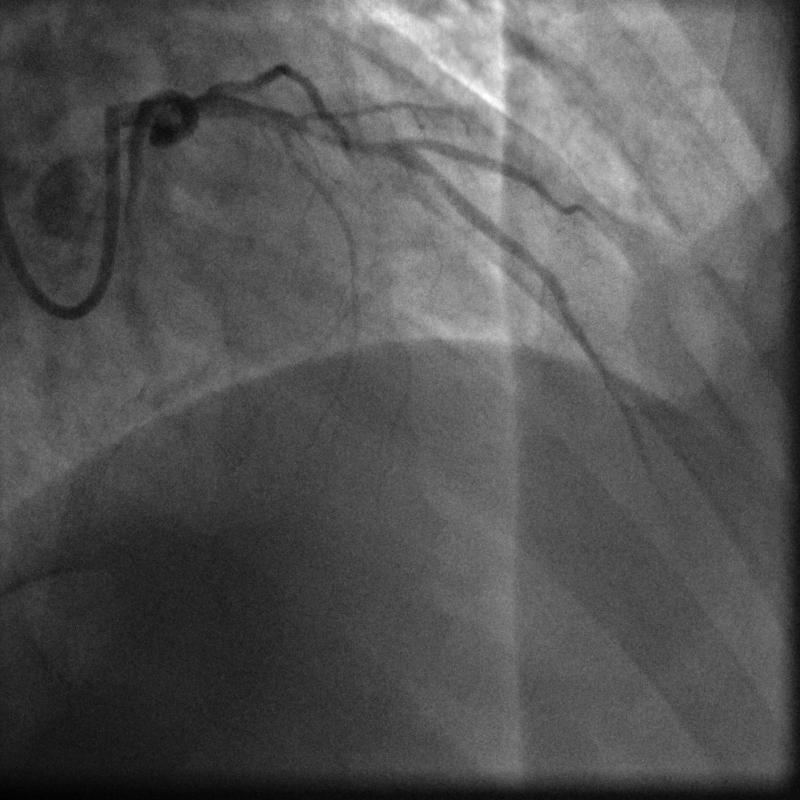Stenosis: (294, 116, 383, 149)
